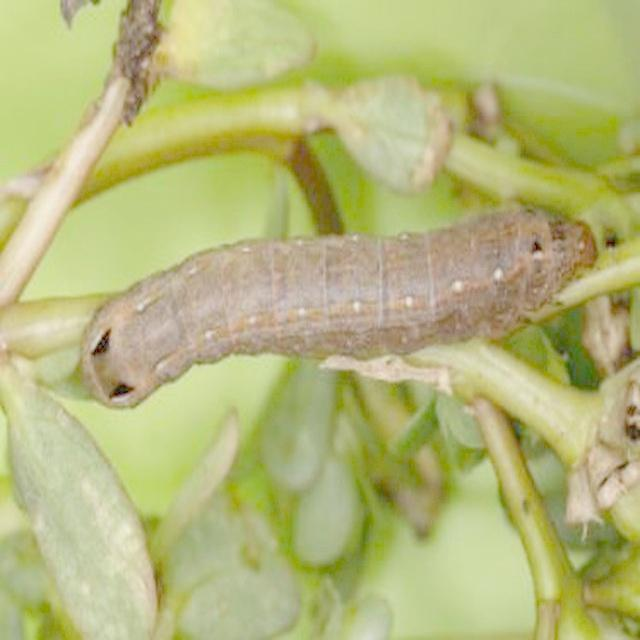Plaga: (78, 208, 600, 410)
